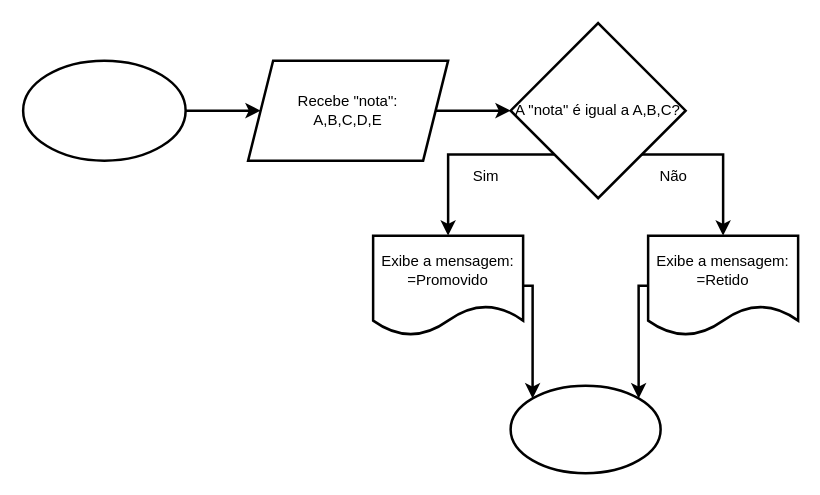
This 820x495 diagram has some shape labels left out. Each missing label, with the centre of its shape:
Fim: (585,429)
Início: (103,110)
